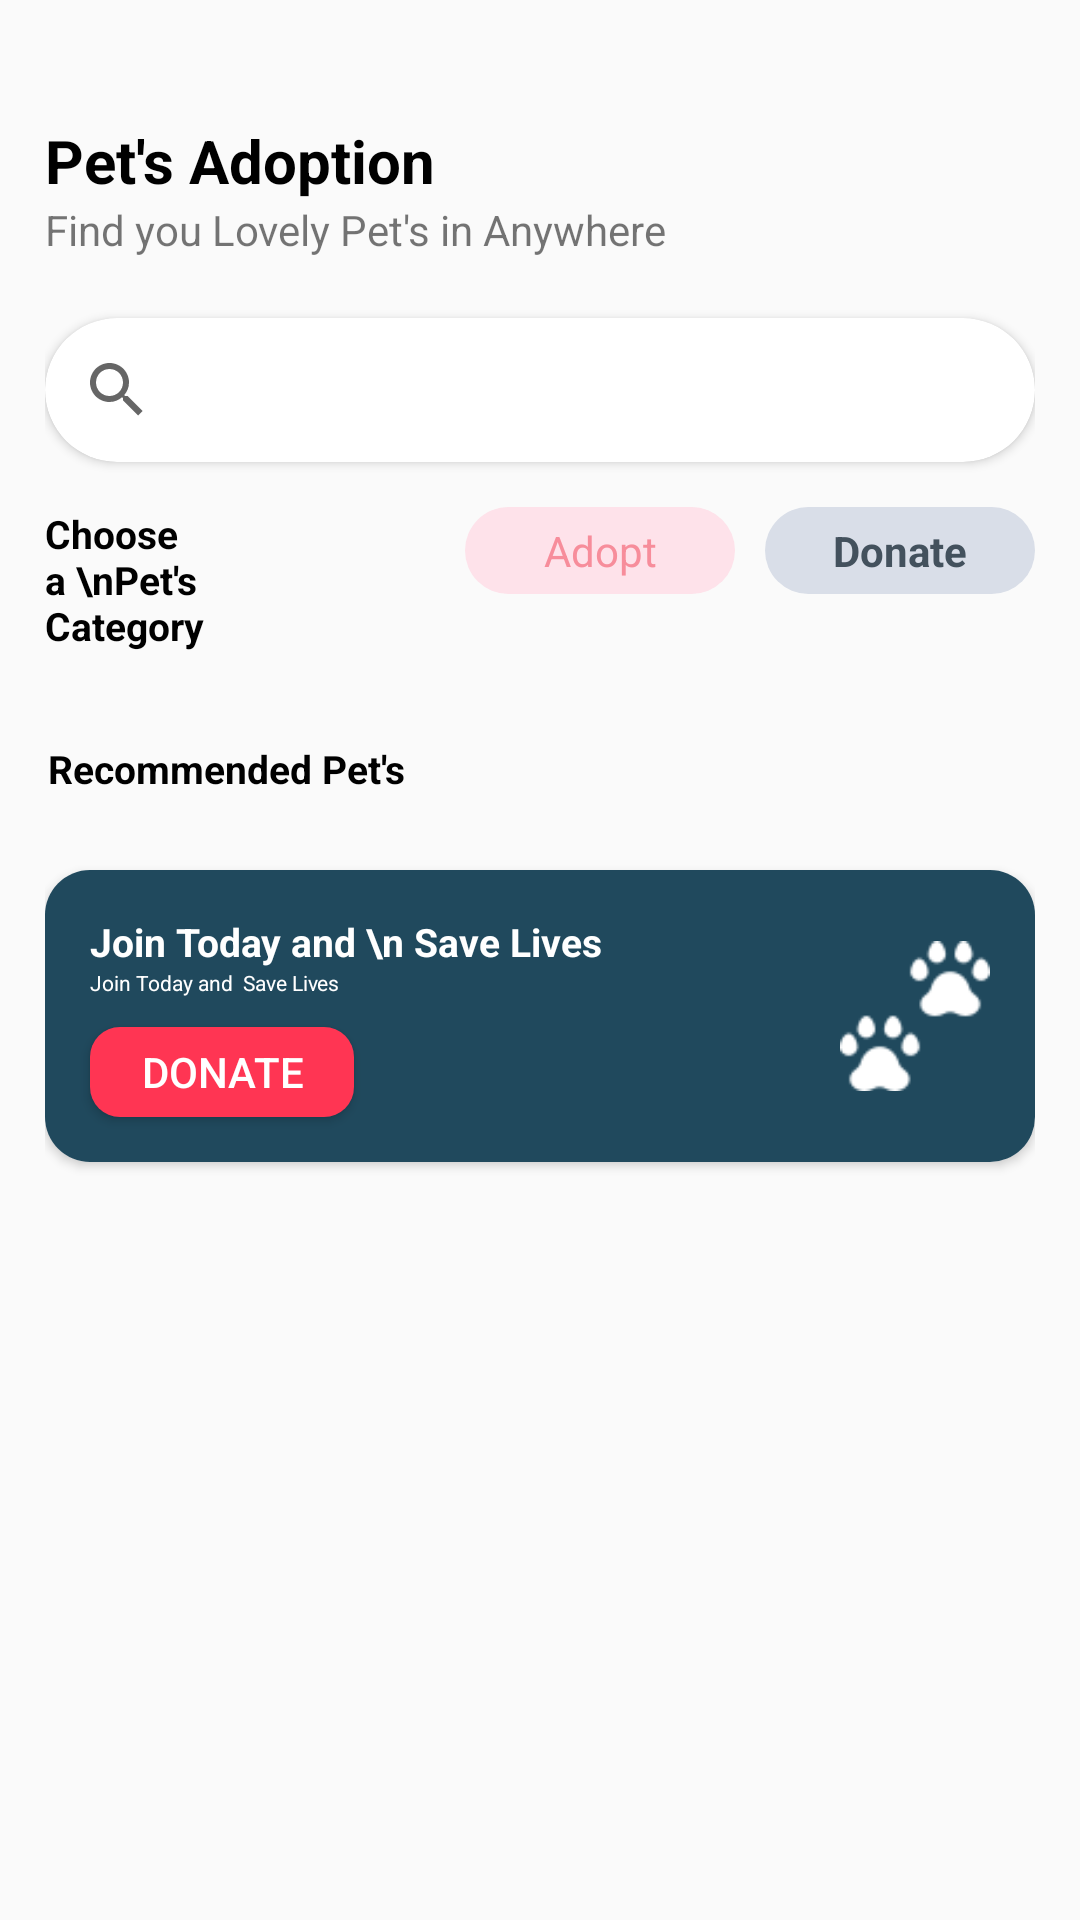

Icon bounding boxes for this 1080px×1920px phone screenshot, format (x1, y1, x2, y2):
footprints: (840, 941, 990, 1091)
